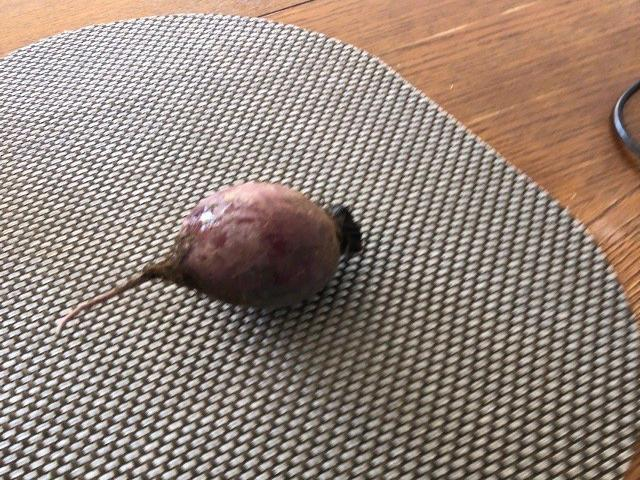beet: (55, 182, 363, 335)
